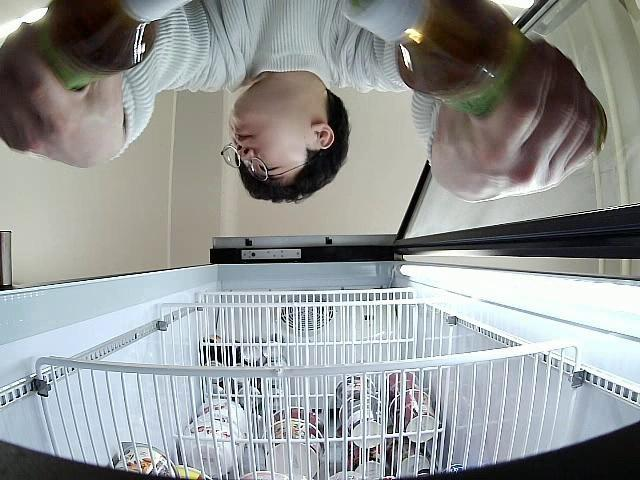19_17cha: (342, 0, 608, 171), (37, 0, 196, 88)
